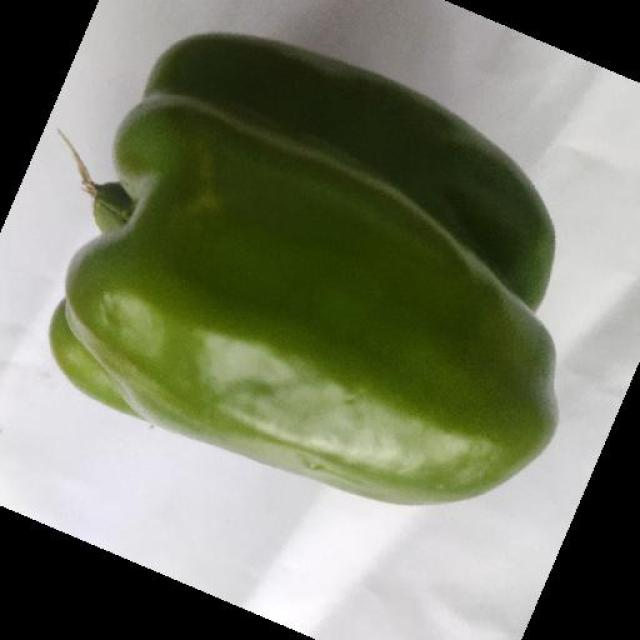Fresh_Capsicum: (101, 20, 560, 464)
